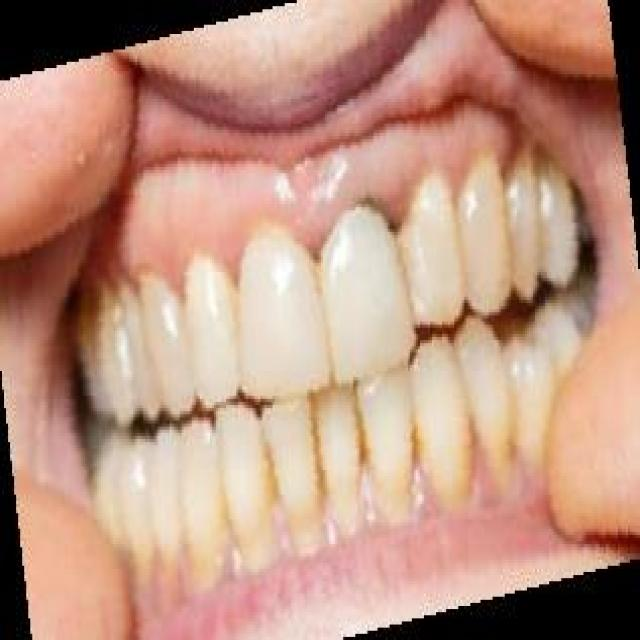caries: (351, 176, 412, 256)
